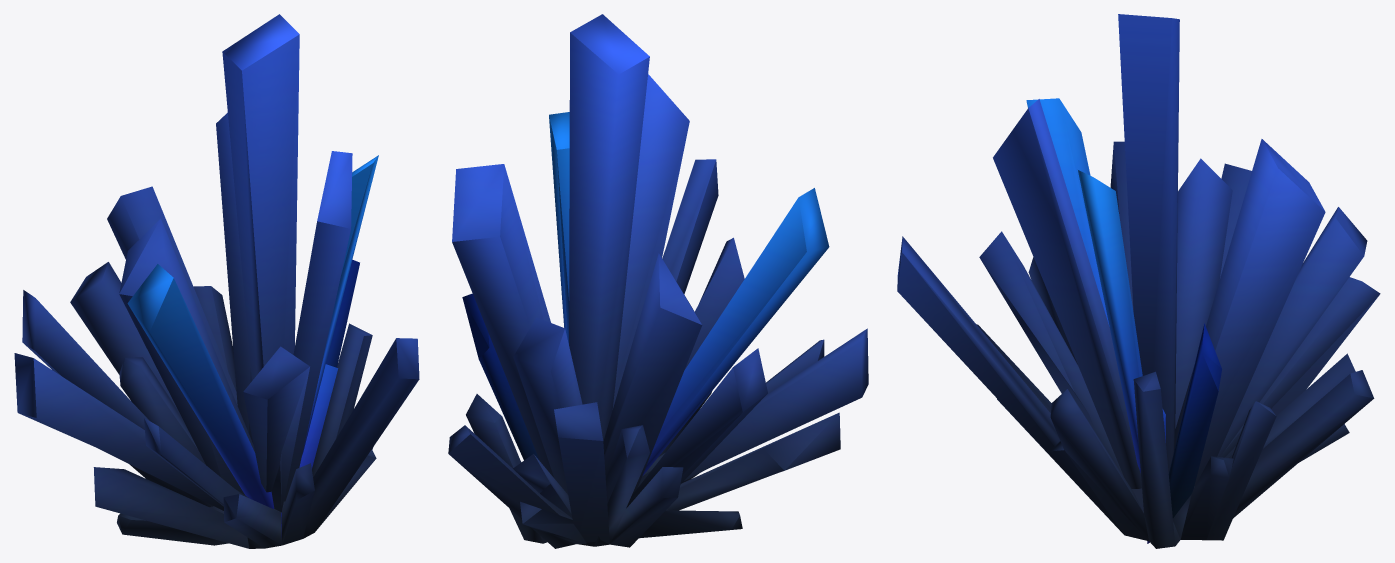
Rendered from ZLP_Crystalk_A_5.FBX.
3 views of the same model, side by side, from view 1: azimuth 30°, elevation 25°; view 2: azimuth 150°, elevation 25°; view 3: azimuth 270°, elevation 25° (orthographic). The views are drawn at different scales.
Parts seen in each view (by area): view 1: ZLP_Crystalk_A_5; view 2: ZLP_Crystalk_A_5; view 3: ZLP_Crystalk_A_5.
Part boxes in pixels (x1,y1,x2,y2): ZLP_Crystalk_A_5: (14, 14, 419, 548); ZLP_Crystalk_A_5: (448, 14, 868, 548); ZLP_Crystalk_A_5: (897, 14, 1380, 548).
Bounding box in the file's own units: 240 × 317 × 263.
